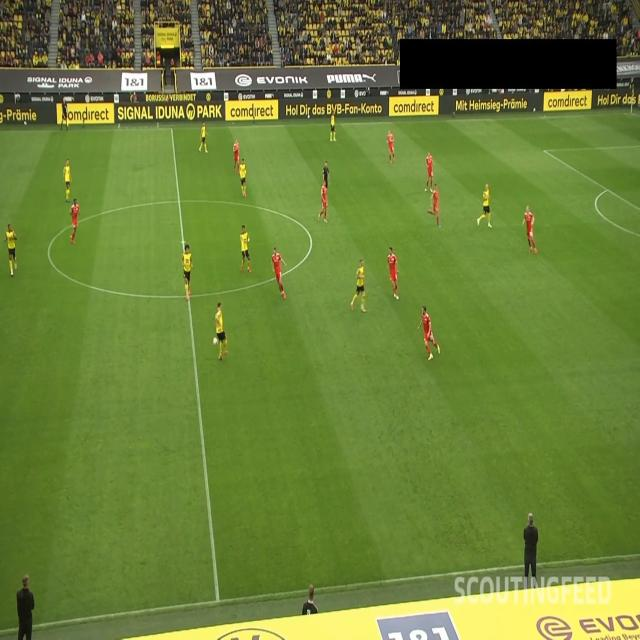ball: (212, 336, 218, 347)
